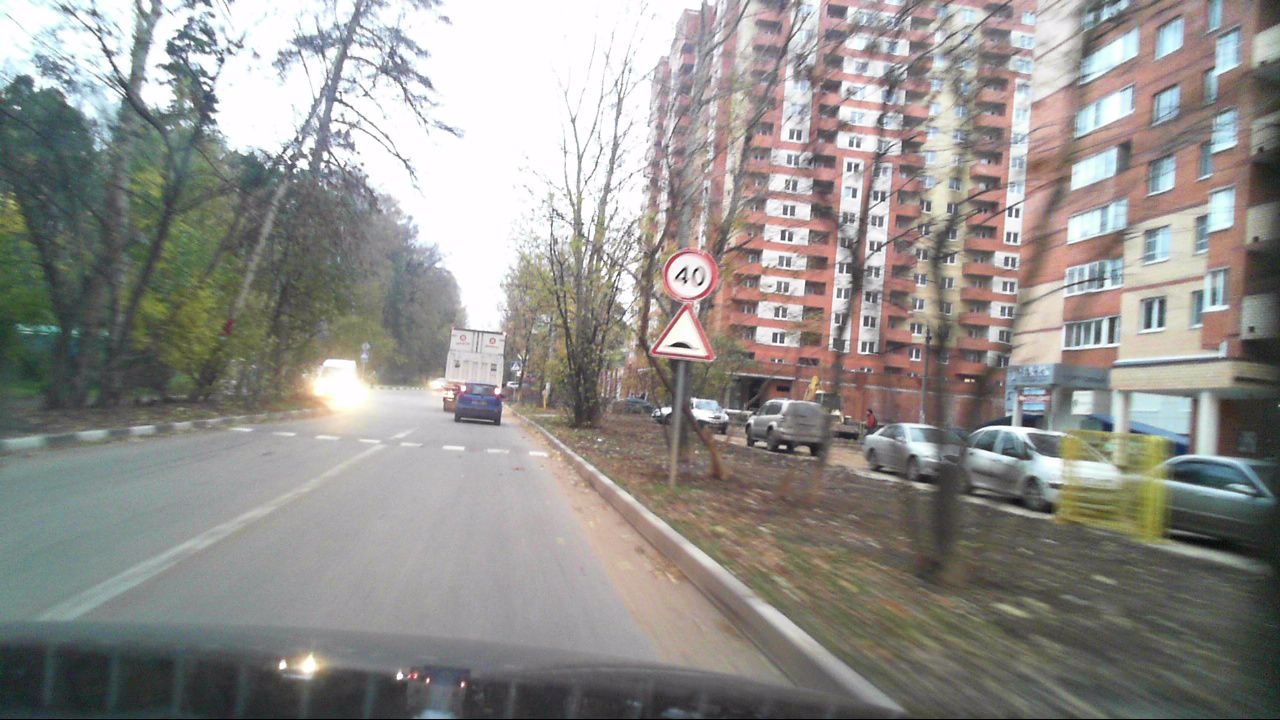speed_warning_40: (663, 249, 715, 302)
